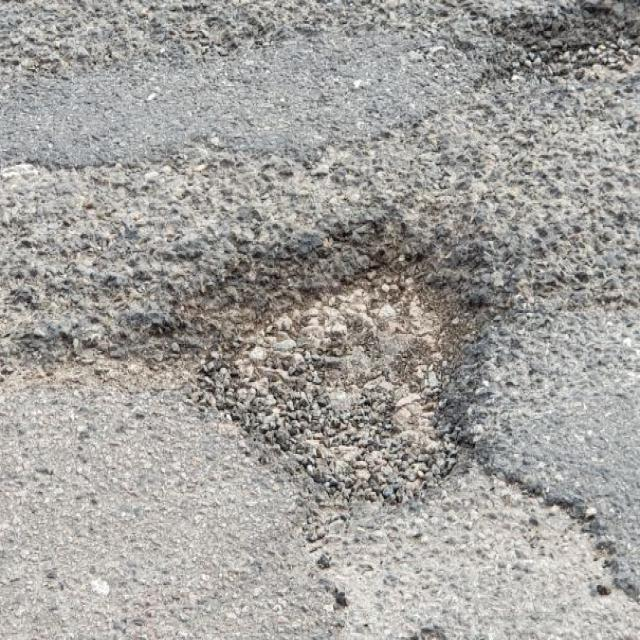Pothole: (172, 222, 507, 507)
